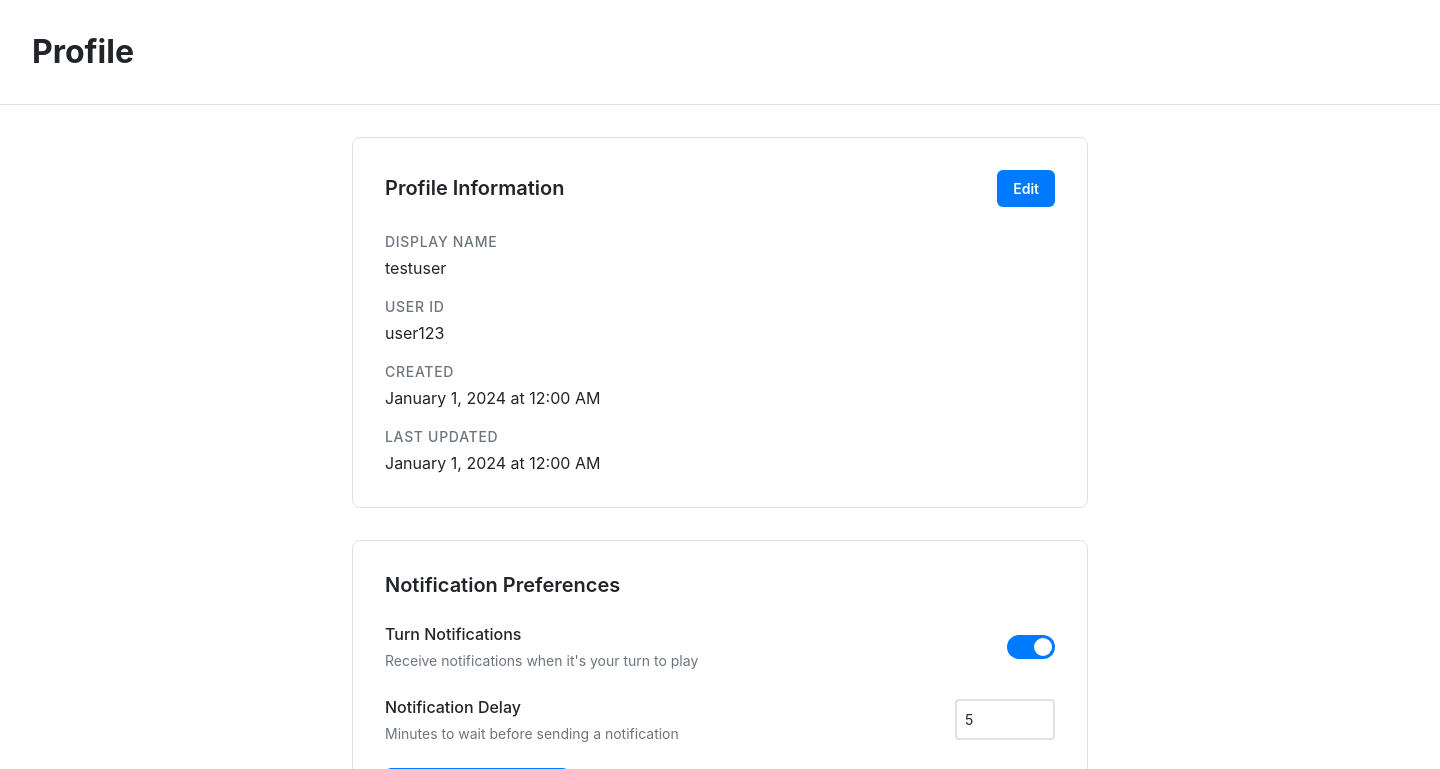
Test: ProfileView › Profile Update Flow › should show updating state while saving
Enter edit mode
Click the button "Edit" at (1026, 188), box x1=997 y1=170 x2=1055 y2=207
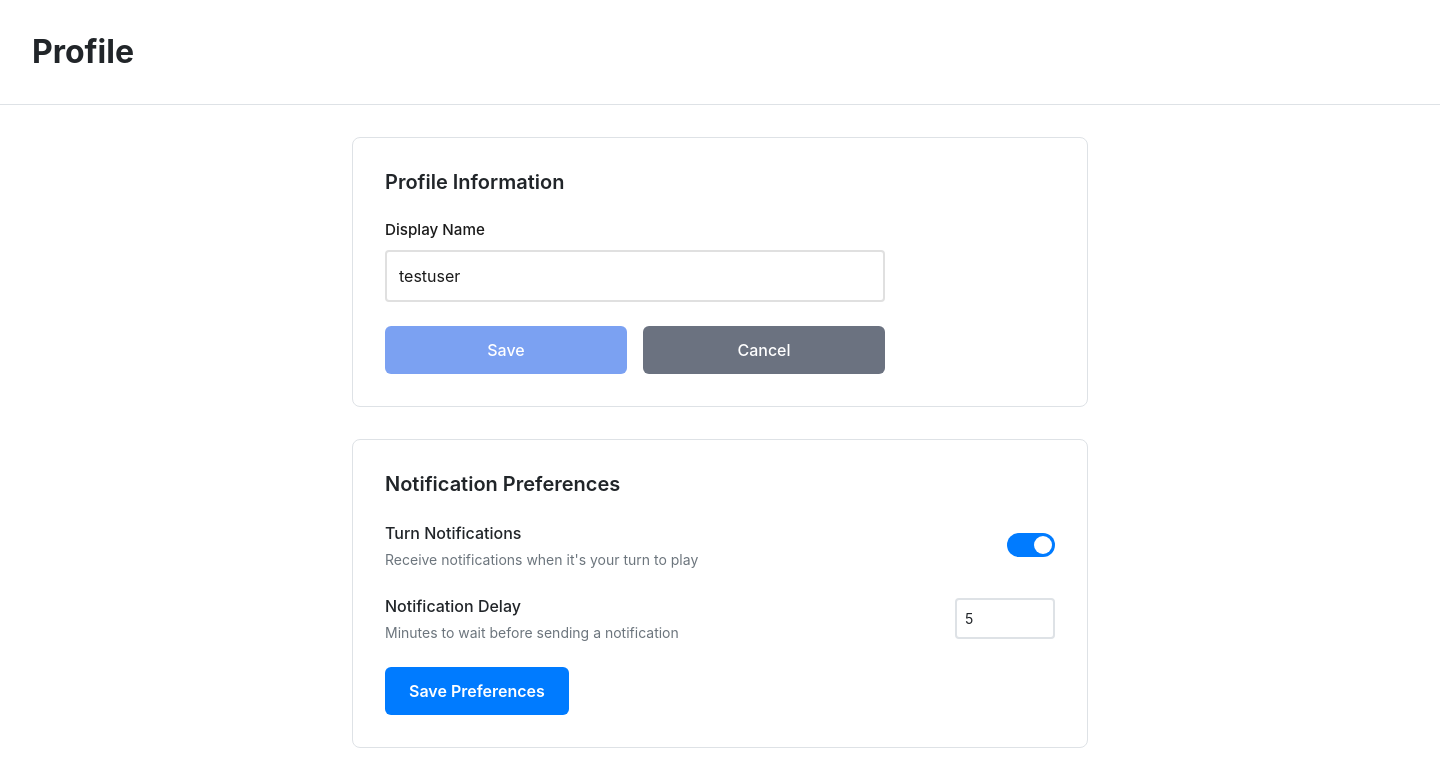
Change and submit
Replace the text in the field labelled "Display Name" with "newname123" at (635, 276), box x1=385 y1=250 x2=885 y2=302
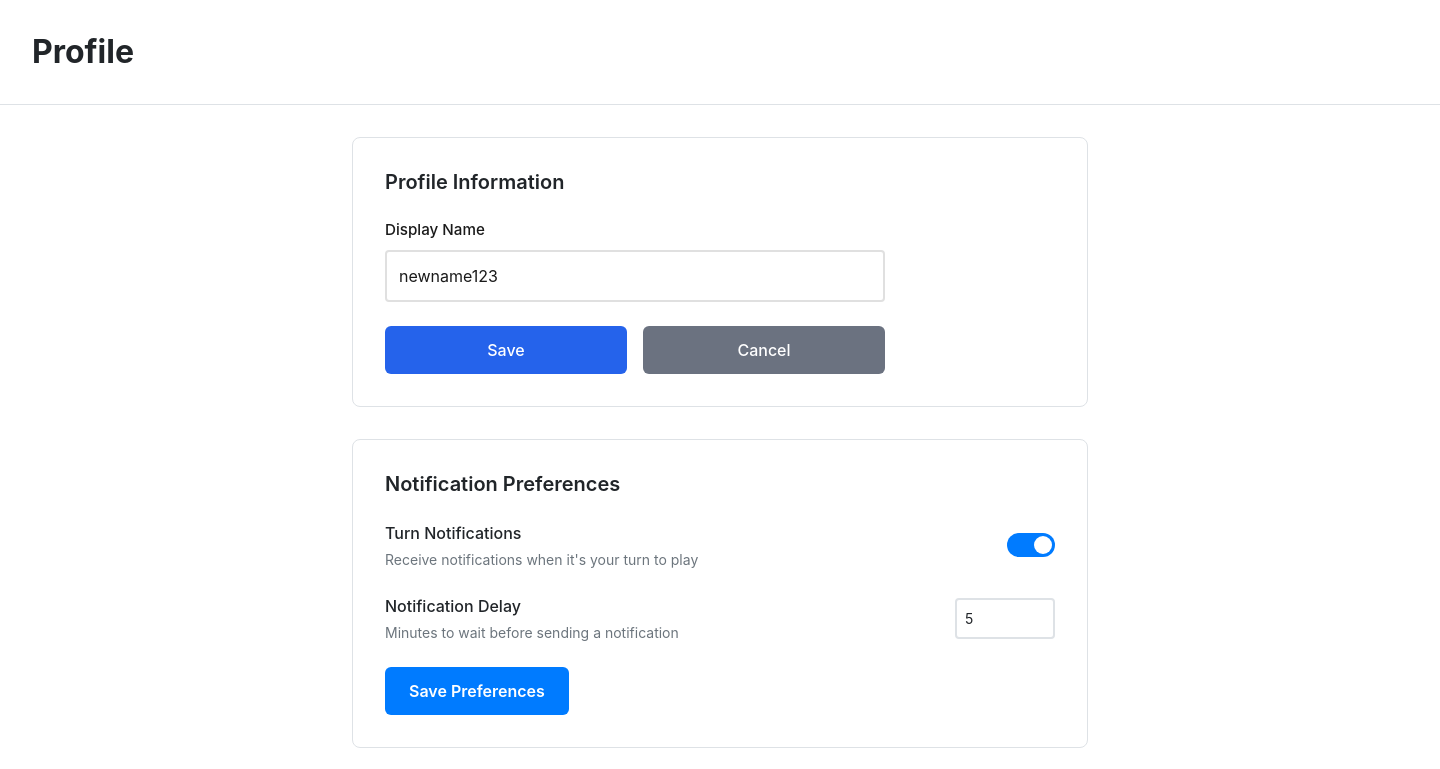
Result: the button "Save" is enabled at x1=385 y1=326 x2=627 y2=374
